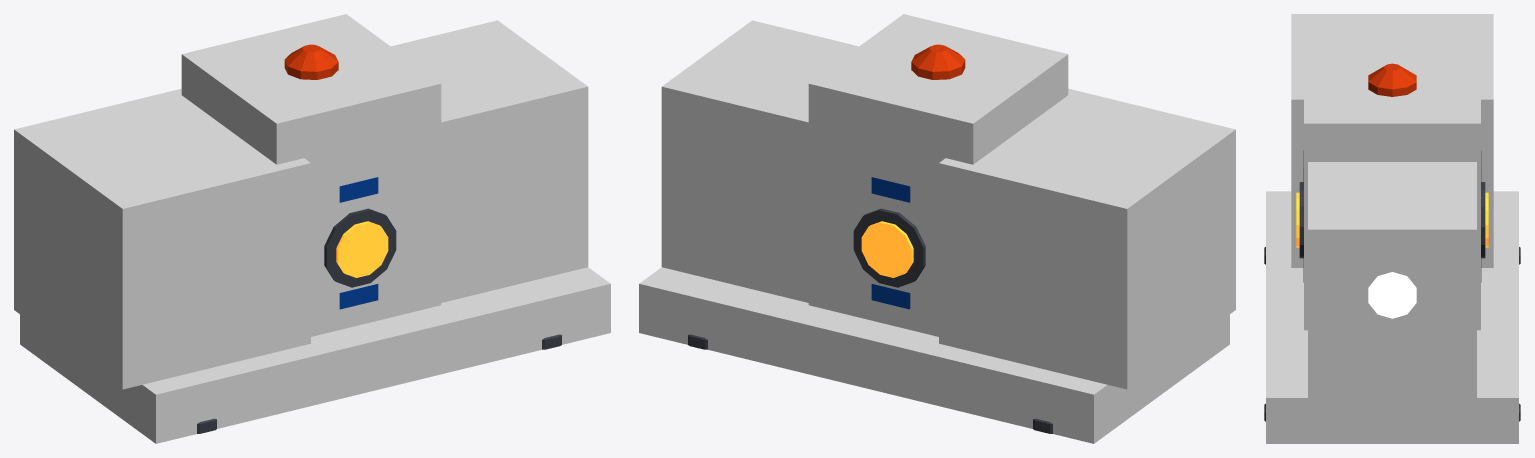
The model's file is OxygenMaker.glb.
3 renders of one model, left to right at view 1: azimuth 30°, elevation 25°; view 2: azimuth 150°, elevation 25°; view 3: azimuth 270°, elevation 25°, orthographic. The views are drawn at different scales.
Parts seen in each view (by area): view 1: COL_Hopper, COL_Reactor, COL_Tank.001, COL_Skid, OxygenMaker_Dark.001, OxygenMaker_Hot.001, OxygenMaker_Red.001, OxygenMaker_Blue.001; view 2: COL_Hopper, COL_Reactor, COL_Tank.001, COL_Skid, OxygenMaker_Dark.001, OxygenMaker_Hot.001, OxygenMaker_Red.001, OxygenMaker_Blue.001; view 3: COL_Tank.001, COL_Skid, COL_Reactor, COL_Hopper, OxygenMaker_Glow.001, OxygenMaker_Red.001, OxygenMaker_Dark.001, OxygenMaker_Hot.001.
Boxes of the visible parts, box(x1,y1,x2,y2) form: COL_Hopper: box(14, 88, 310, 389); COL_Reactor: box(181, 14, 441, 336); COL_Tank.001: box(391, 20, 588, 302); COL_Skid: box(20, 267, 610, 443); OxygenMaker_Dark.001: box(197, 208, 561, 433); OxygenMaker_Hot.001: box(336, 221, 388, 277); OxygenMaker_Red.001: box(284, 44, 338, 79); OxygenMaker_Blue.001: box(339, 177, 378, 309); COL_Hopper: box(939, 88, 1235, 389); COL_Reactor: box(808, 14, 1068, 336); COL_Tank.001: box(661, 20, 858, 302); COL_Skid: box(639, 267, 1229, 443); OxygenMaker_Dark.001: box(688, 208, 1052, 433); OxygenMaker_Hot.001: box(861, 221, 913, 277); OxygenMaker_Red.001: box(911, 44, 965, 79); OxygenMaker_Blue.001: box(871, 177, 910, 309); COL_Tank.001: box(1308, 162, 1476, 397); COL_Skid: box(1266, 191, 1518, 443); COL_Reactor: box(1304, 49, 1480, 330); COL_Hopper: box(1291, 14, 1493, 267); OxygenMaker_Glow.001: box(1368, 272, 1416, 318); OxygenMaker_Red.001: box(1368, 63, 1416, 96); OxygenMaker_Dark.001: box(1264, 182, 1520, 421); OxygenMaker_Hot.001: box(1296, 192, 1488, 247).
Size of the model in its own units: 6.08 by 3.55 by 3.03.
